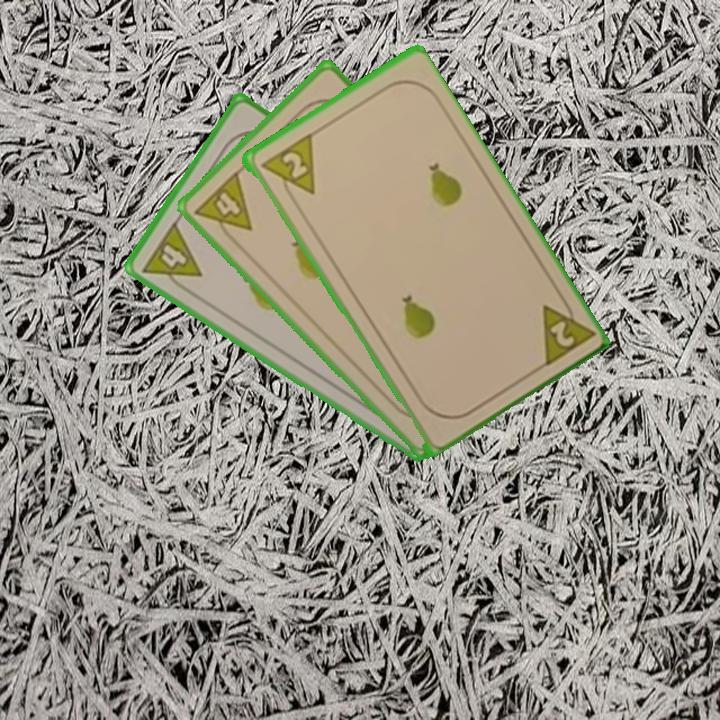2p: (255, 130, 318, 206), (537, 289, 595, 371)
4p: (138, 218, 205, 297), (190, 167, 255, 248)
